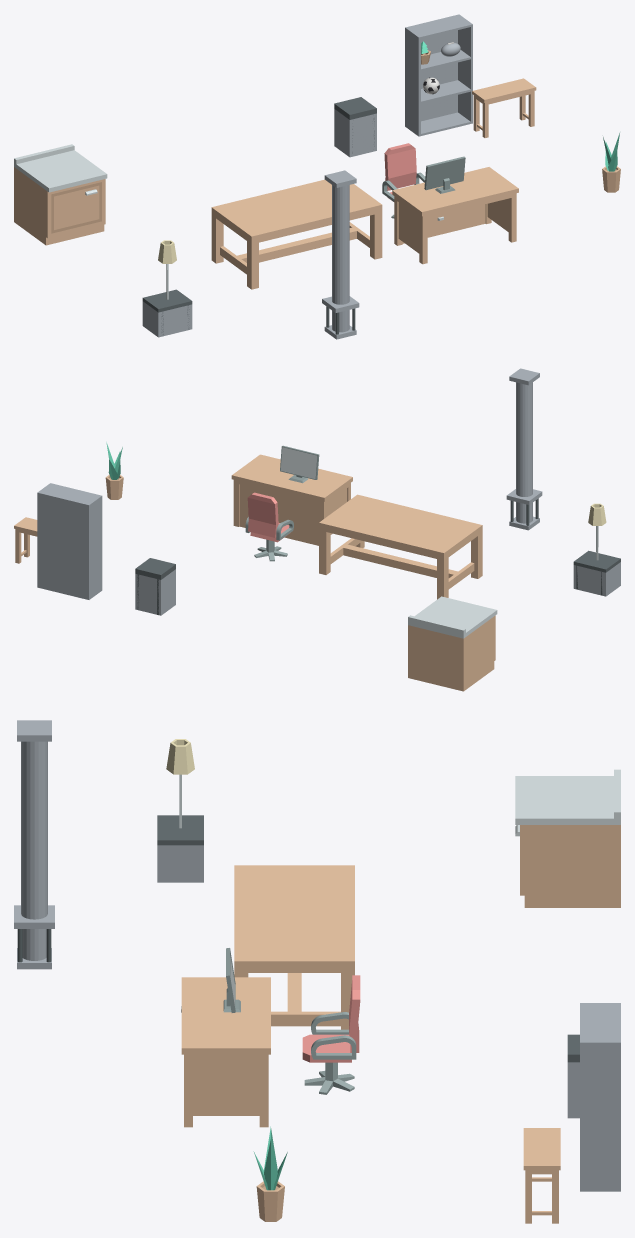
3 renders of one model, top to bottom at view 1: azimuth 30°, elevation 25°; view 2: azimuth 150°, elevation 25°; view 3: azimuth 270°, elevation 25°, orthographic. The views are drawn at different scales.
Visible parts, largest first — view 1: table_green__table(Clone), desk_blue__desk(Clone), cabinet_blue__kitchenCabinet(Clone), column_cyan__column_cyan shaft, cabinet_blue__door, sidetable_brown__sideTable(Clone), shelf_orange__shelf_orange back, bin_gray__bin_gray shell, shelf_orange__shelf_orange side_l, deskchair_black__chair, crate_red__crate_red shell, shelf_orange__shelf_orange side_r (+8 smaller); view 2: table_green__table(Clone), cabinet_blue__kitchenCabinet(Clone), desk_blue__desk(Clone), shelf_orange__shelf_orange back, column_cyan__column_cyan shaft, deskchair_black__chair, shelf_orange__shelf_orange side_l, bin_gray__bin_gray shell, crate_red__crate_red shell, monitor_gray__computerScreen(Clone), sidetable_brown__sideTable(Clone), crate_red__crate_red lid (+3 smaller); view 3: table_green__table(Clone), cabinet_blue__kitchenCabinet(Clone), desk_blue__desk(Clone), shelf_orange__shelf_orange side_r, column_cyan__column_cyan shaft, deskchair_black__chair, sidetable_brown__sideTable(Clone), crate_red__crate_red shell, shelf_orange__shelf_orange board3, crate_red__crate_red lid, lamp_white__lampRoundFloor(Clone), plant_pink__pottedPlant(Clone) (+4 smaller).
Boxes of the visible parts, x1=… form: table_green__table(Clone): x1=211, y1=179, x2=382, y2=289; desk_blue__desk(Clone): x1=392, y1=167, x2=518, y2=264; cabinet_blue__kitchenCabinet(Clone): x1=14, y1=144, x2=107, y2=245; column_cyan__column_cyan shaft: x1=332, y1=185, x2=349, y2=332; cabinet_blue__door: x1=51, y1=182, x2=101, y2=233; sidetable_brown__sideTable(Clone): x1=472, y1=78, x2=536, y2=137; shelf_orange__shelf_orange back: x1=407, y1=15, x2=457, y2=121; bin_gray__bin_gray shell: x1=334, y1=109, x2=376, y2=157; shelf_orange__shelf_orange side_l: x1=405, y1=27, x2=420, y2=136; deskchair_black__chair: x1=382, y1=143, x2=425, y2=201; crate_red__crate_red shell: x1=142, y1=301, x2=192, y2=337; shelf_orange__shelf_orange side_r: x1=457, y1=14, x2=472, y2=123; table_green__table(Clone): x1=319, y1=494, x2=482, y2=599; cabinet_blue__kitchenCabinet(Clone): x1=408, y1=596, x2=497, y2=691; desk_blue__desk(Clone): x1=231, y1=454, x2=352, y2=545; shelf_orange__shelf_orange back: x1=39, y1=492, x2=87, y2=599; column_cyan__column_cyan shaft: x1=516, y1=382, x2=532, y2=523; deskchair_black__chair: x1=245, y1=492, x2=293, y2=542; shelf_orange__shelf_orange side_l: x1=87, y1=495, x2=102, y2=599; bin_gray__bin_gray shell: x1=135, y1=569, x2=175, y2=615; crate_red__crate_red shell: x1=573, y1=562, x2=620, y2=596; monitor_gray__computerScreen(Clone): x1=280, y1=445, x2=319, y2=483; sidetable_brown__sideTable(Clone): x1=14, y1=517, x2=37, y2=563; crate_red__crate_red lid: x1=573, y1=550, x2=620, y2=572; table_green__table(Clone): x1=234, y1=865, x2=354, y2=1029; cabinet_blue__kitchenCabinet(Clone): x1=515, y1=769, x2=620, y2=907; desk_blue__desk(Clone): x1=181, y1=977, x2=270, y2=1127; shelf_orange__shelf_orange side_r: x1=580, y1=1041, x2=620, y2=1191; column_cyan__column_cyan shaft: x1=21, y1=741, x2=47, y2=960; deskchair_black__chair: x1=302, y1=975, x2=360, y2=1062; sidetable_brown__sideTable(Clone): x1=523, y1=1128, x2=560, y2=1223; crate_red__crate_red shell: x1=157, y1=845, x2=203, y2=882; shelf_orange__shelf_orange board3: x1=580, y1=1004, x2=618, y2=1041; crate_red__crate_red lid: x1=157, y1=815, x2=203, y2=845; lamp_white__lampRoundFloor(Clone): x1=166, y1=739, x2=194, y2=828; plant_pink__pottedPlant(Clone): x1=256, y1=1181, x2=284, y2=1221.
Size of the model in its own units: 7.39 by 2.2 by 5.17.
